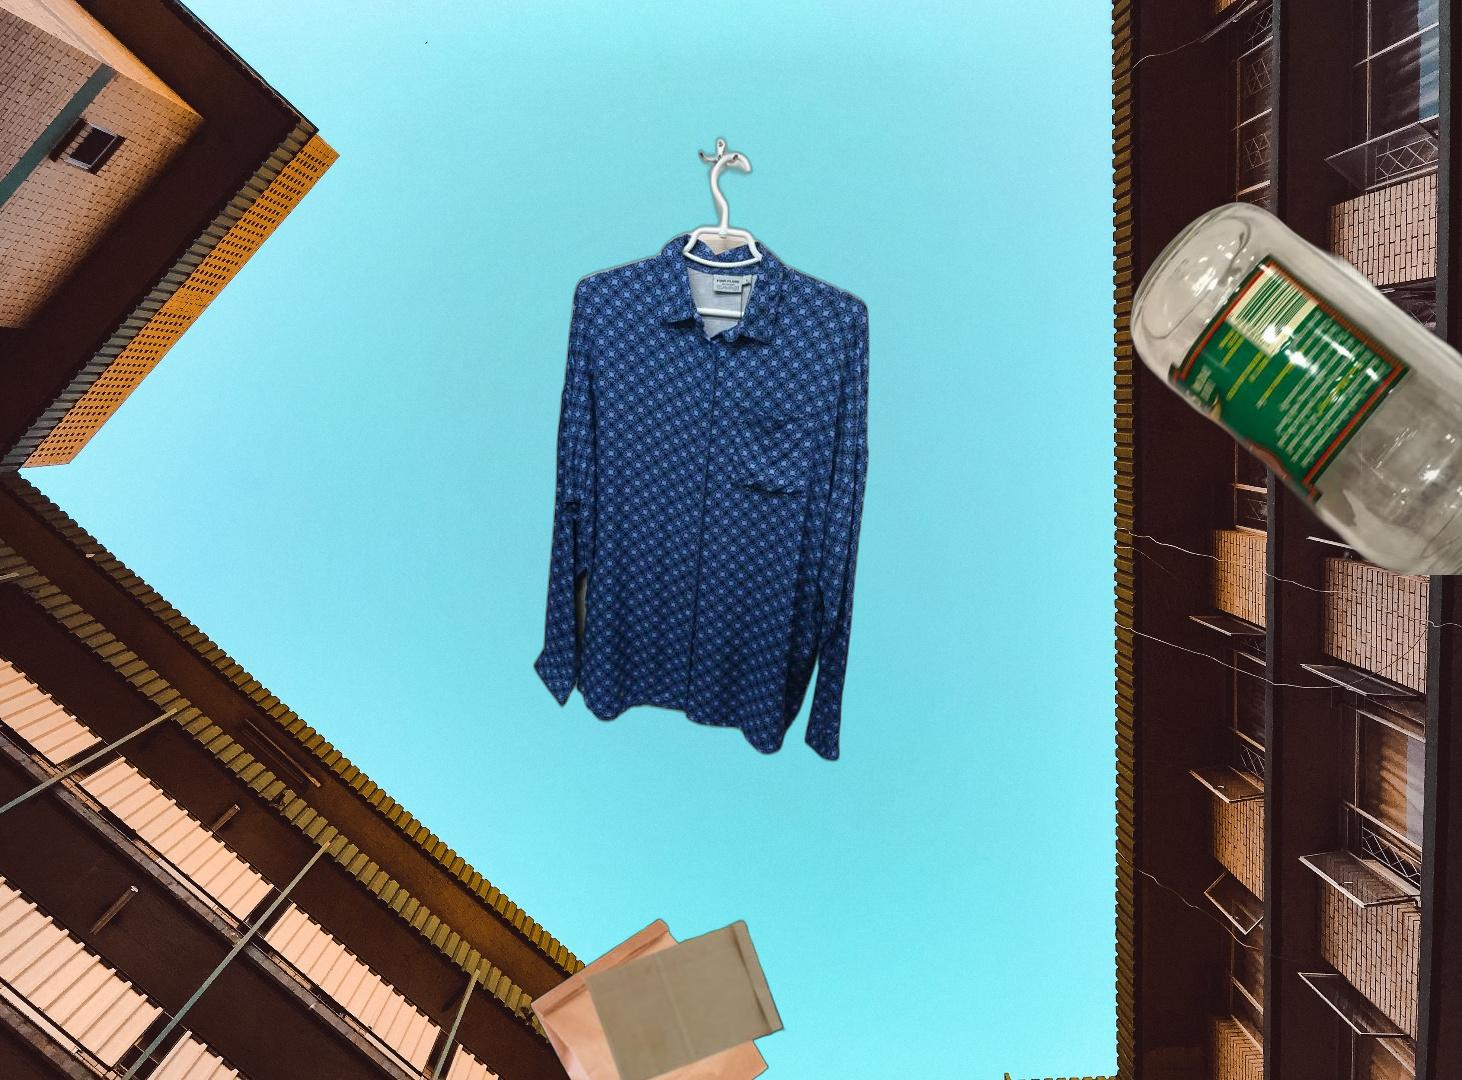clothes: (531, 132, 873, 768)
glass: (1124, 198, 1462, 575)
paper-bag: (529, 916, 788, 1080)
